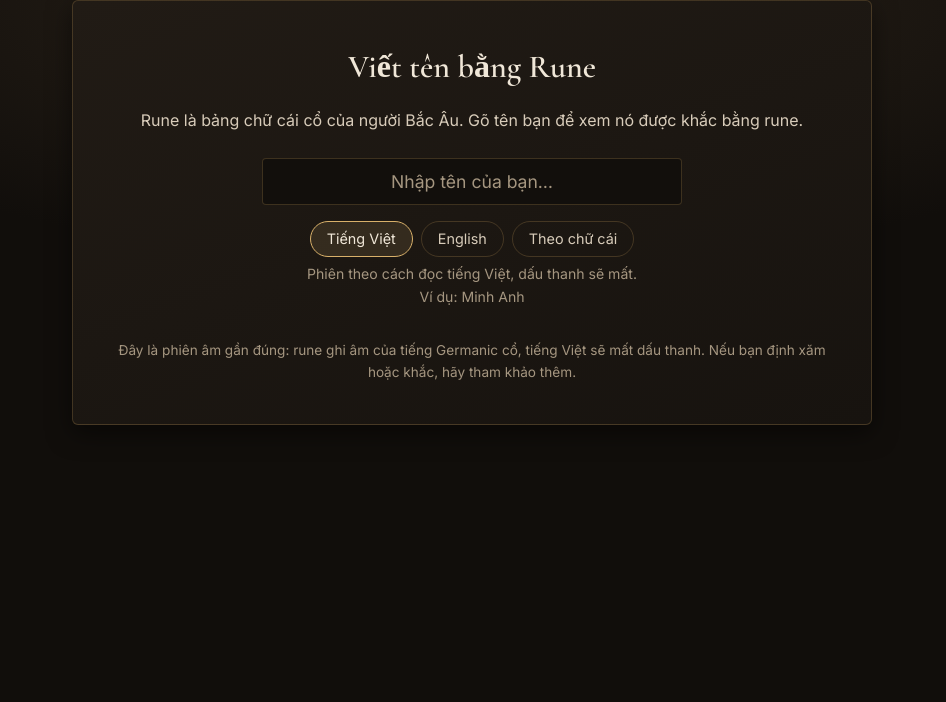
Test case: NameWriterTab › bấm một rune thì hiện tên, ý nghĩa và chữ gốc; bấm lại thì đóng
Step 1. Type "Minh" into the field named "Tên cần viết bằng rune" → (472, 181), box left=262, top=158, right=682, bottom=205
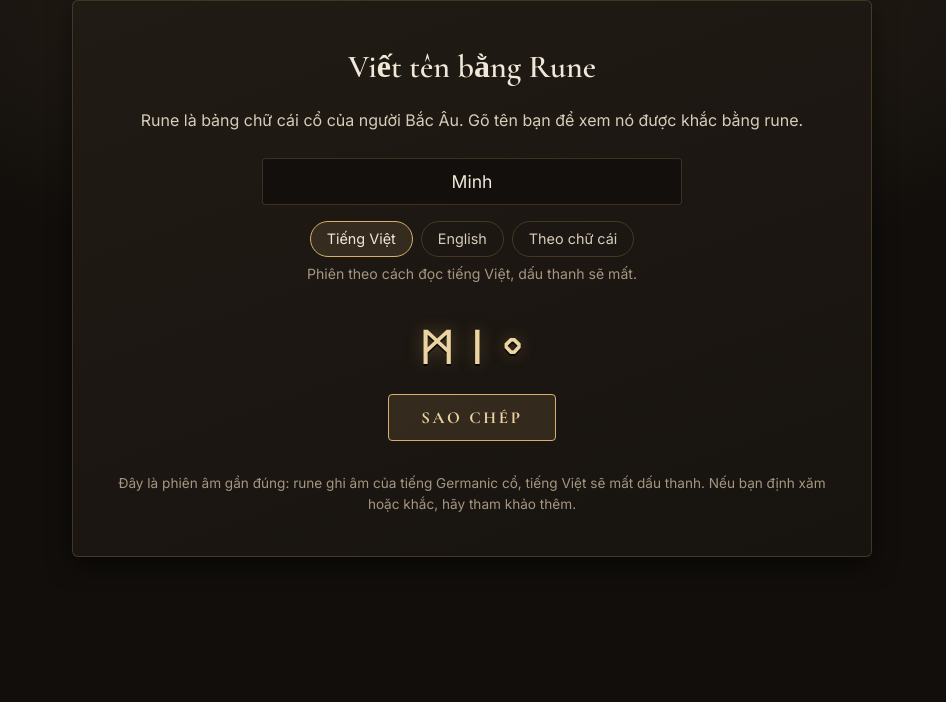
Step 2. Click the button named ", từ \"" → (437, 346), box left=412, top=318, right=462, bottom=374
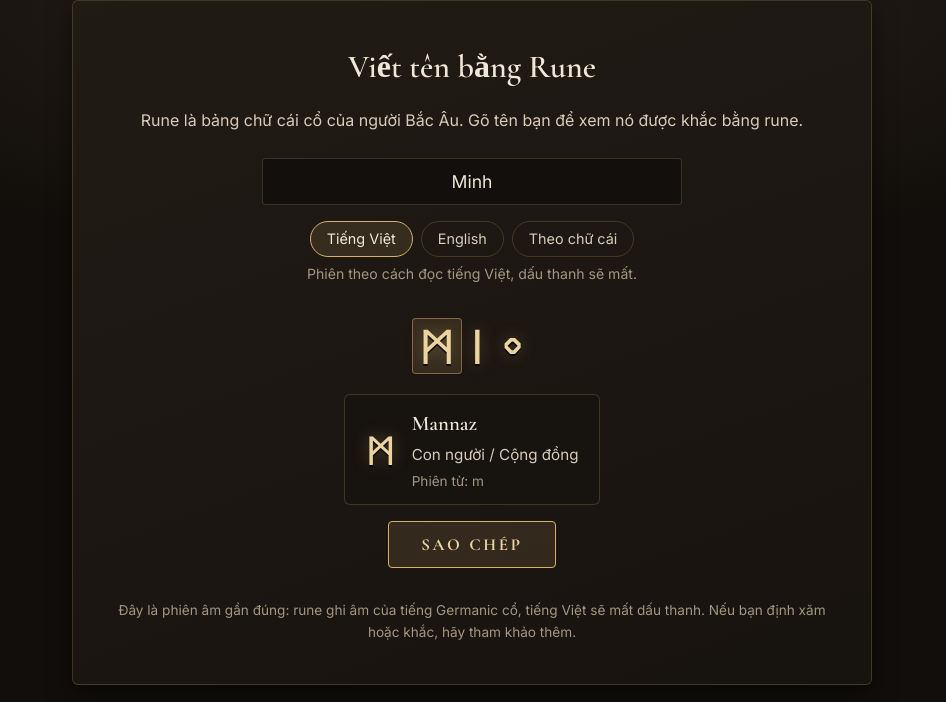
Check: the heading "Mannaz" is shown, box left=412, top=411, right=477, bottom=436
Check: the text "Con người / Cộng đồng" is shown, box left=412, top=443, right=578, bottom=467
Check: the text "Phiên từ: m" is shown, box left=412, top=473, right=484, bottom=489
Step 3. Click the button named ", từ \"" → (437, 346), box left=412, top=318, right=462, bottom=374
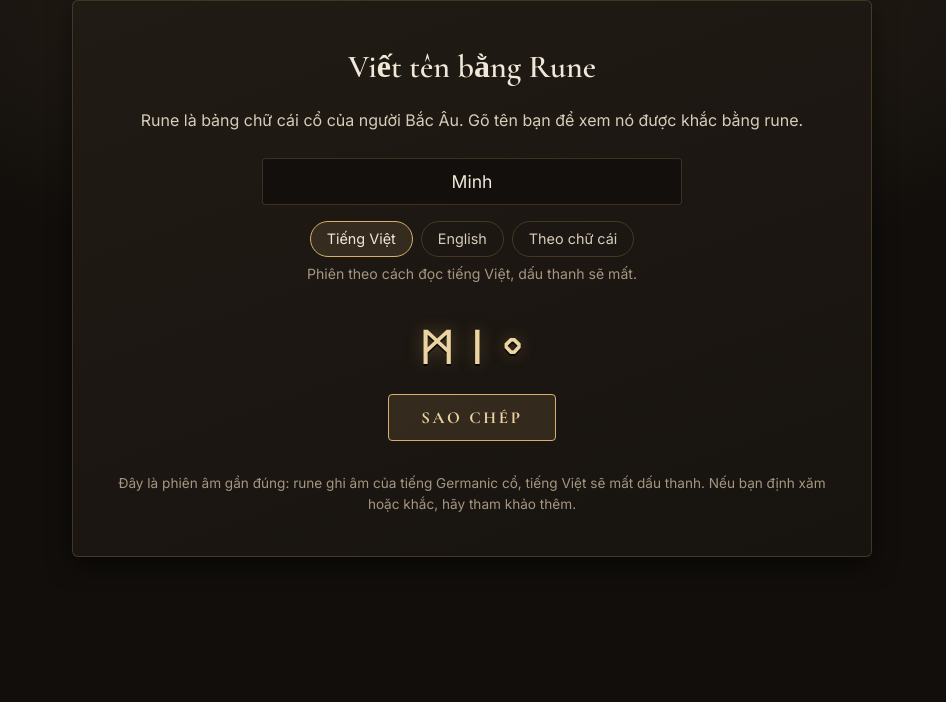
Check: the heading "Mannaz" is gone
